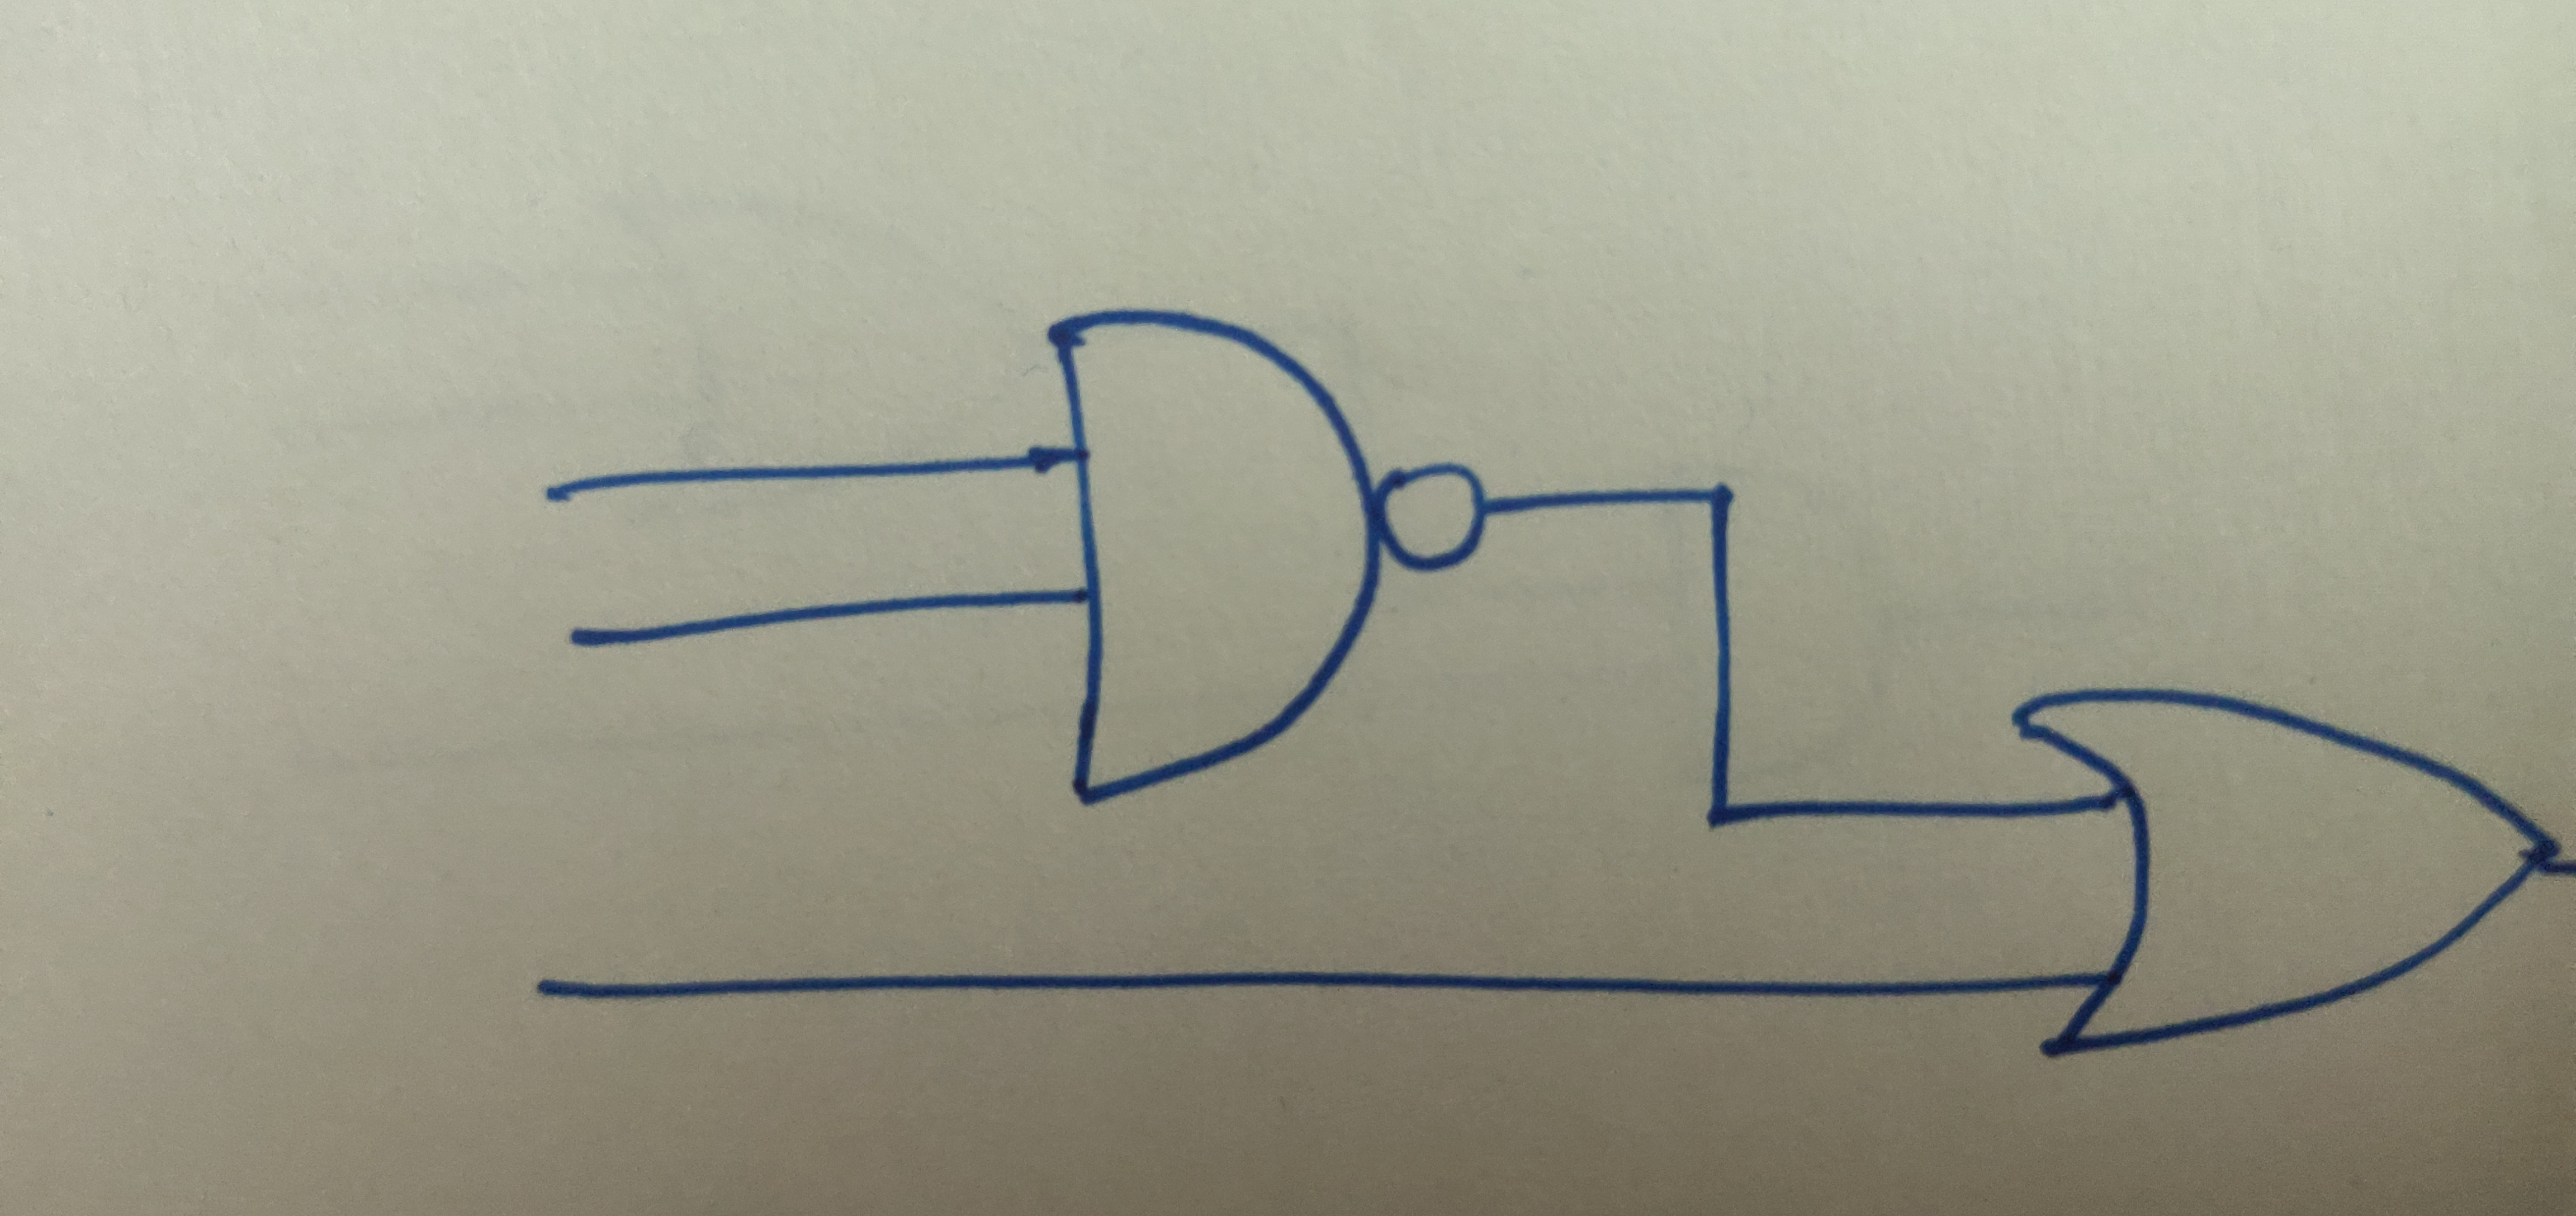and: (1038, 306, 1380, 822)
not: (1370, 457, 1498, 582)
or: (2001, 684, 2568, 1055)
